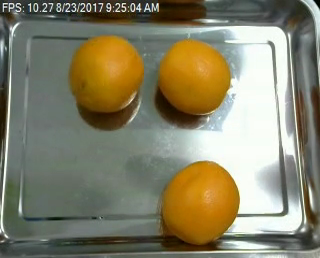Orange: (160, 160, 241, 244), (68, 35, 145, 113), (156, 38, 231, 116)
